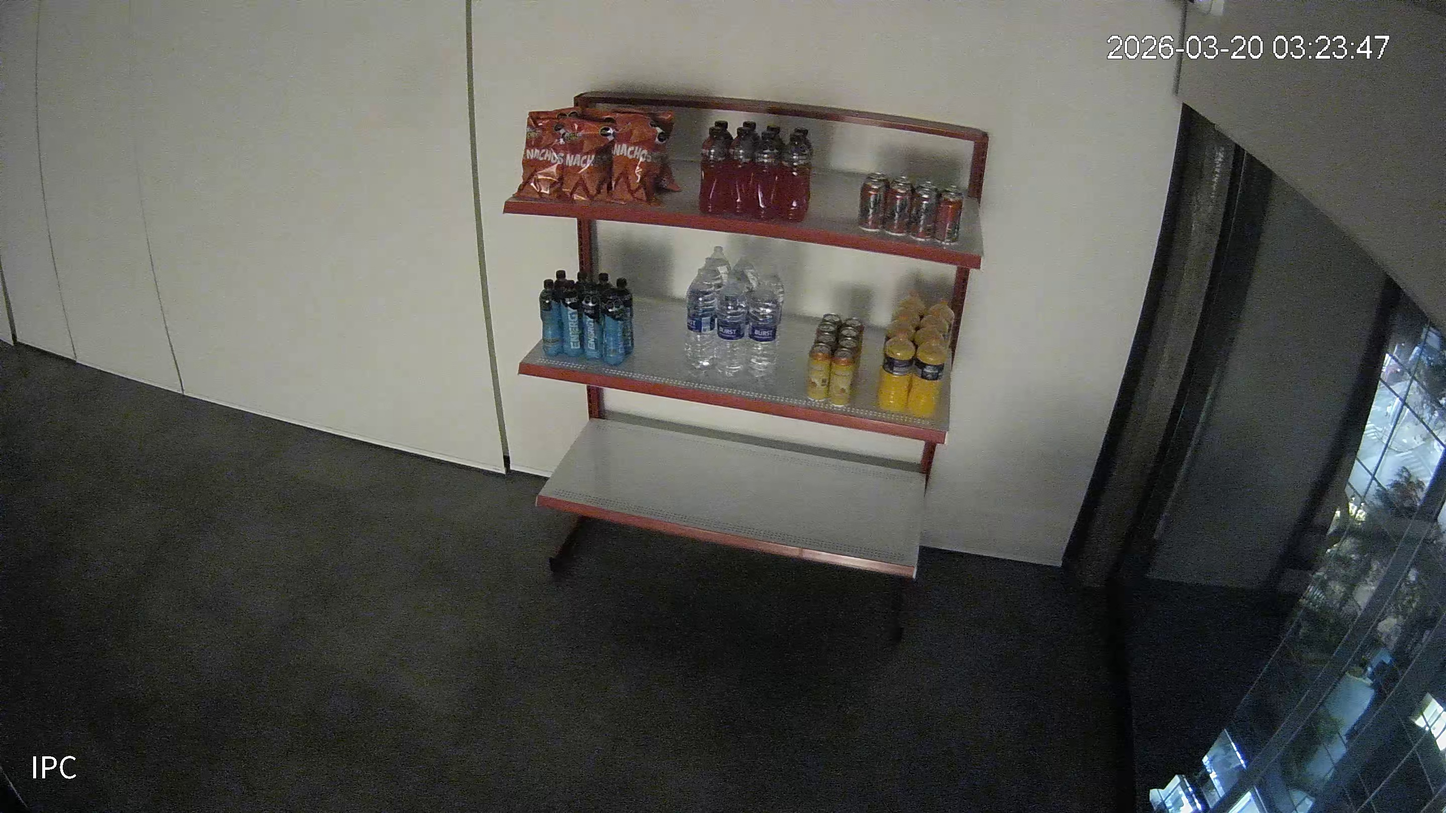agua_burst: (684, 268, 718, 368), (756, 263, 784, 308), (731, 253, 759, 284)
burst_energetica_roja: (698, 127, 728, 214), (730, 127, 755, 215), (767, 125, 786, 149)
burst_energy: (603, 287, 624, 364), (582, 282, 602, 359), (617, 277, 634, 356)
nachos_naturasol: (610, 113, 669, 206), (561, 117, 616, 201), (511, 117, 563, 201)
nebraska_mango: (805, 344, 832, 402), (829, 350, 855, 405), (822, 313, 842, 331)
sisi_cola: (857, 180, 887, 231), (908, 188, 938, 239), (934, 193, 964, 244)
sun_paradise_naranja: (877, 328, 915, 413), (914, 319, 945, 347), (896, 288, 926, 309)
